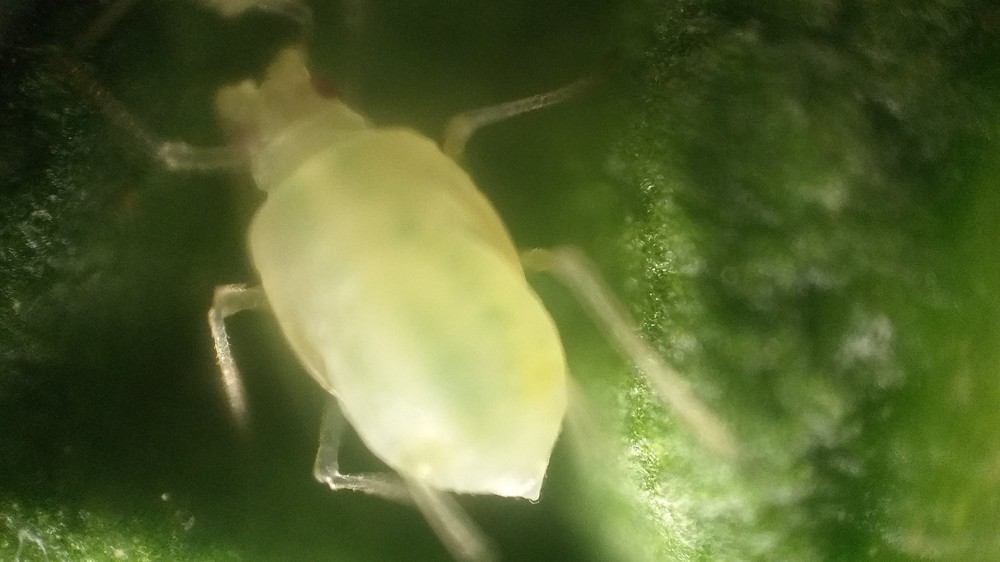Pulgon: (100, 10, 748, 556)
